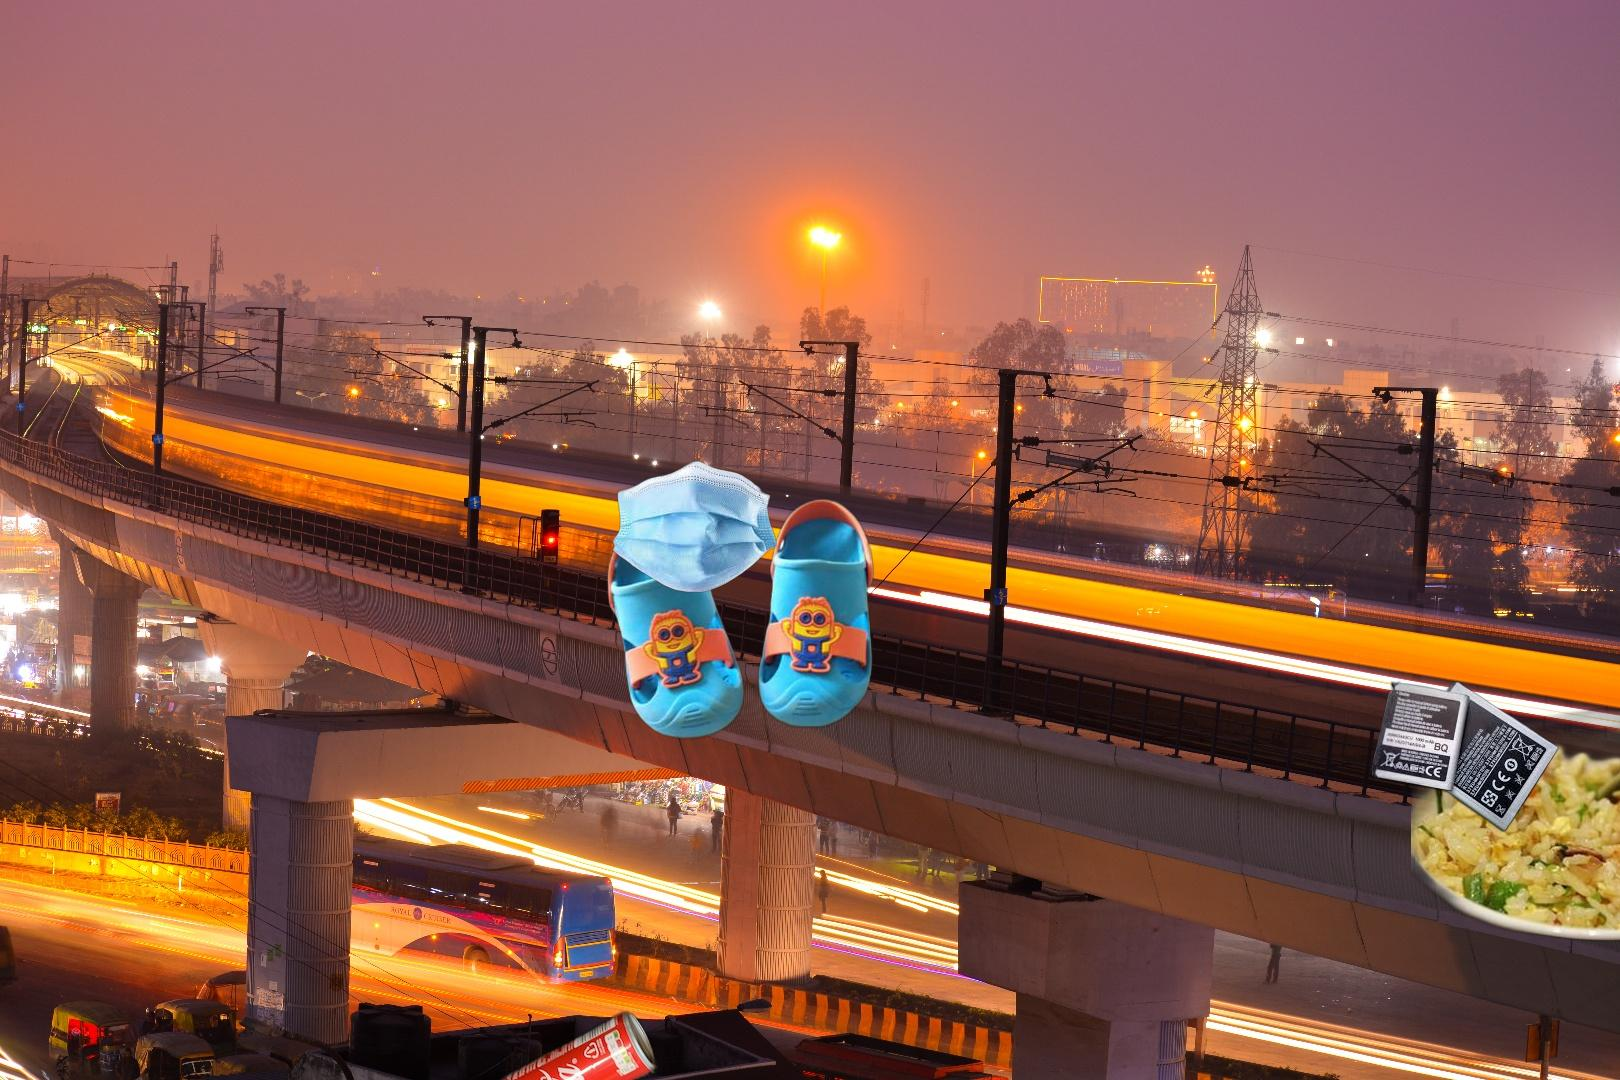battery: (1369, 679, 1561, 834)
biological: (1411, 708, 1620, 961)
metal-cans: (488, 1005, 663, 1080)
shoes: (605, 494, 877, 742)
trash: (610, 458, 779, 595)
